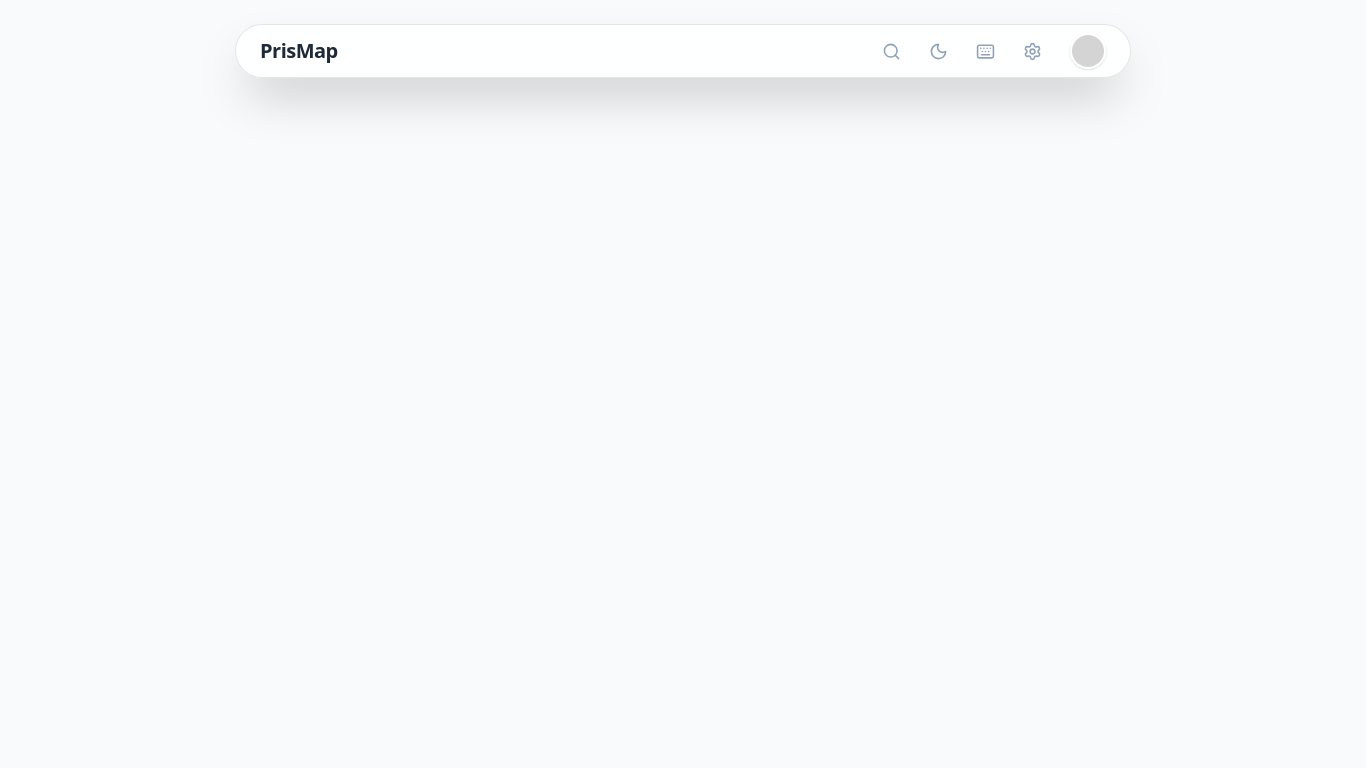
Scenario: Navbar Interaction Tests › opens search modal on button click
The width and height of the screenshot is (1366, 768).
Click the button named "Search" at (892, 51), box [874,34,909,68]
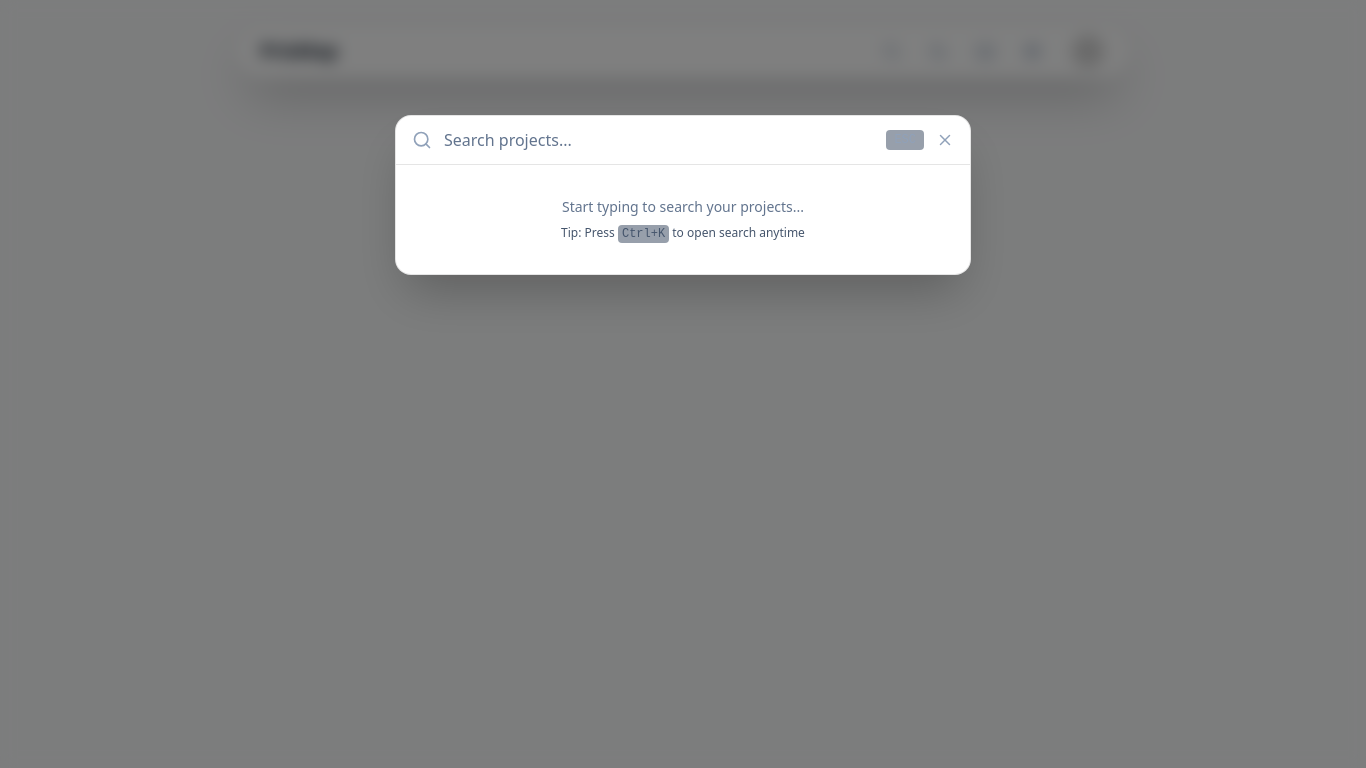
Expected: the field with placeholder "Search projects..." is shown, [444,128,874,152]
